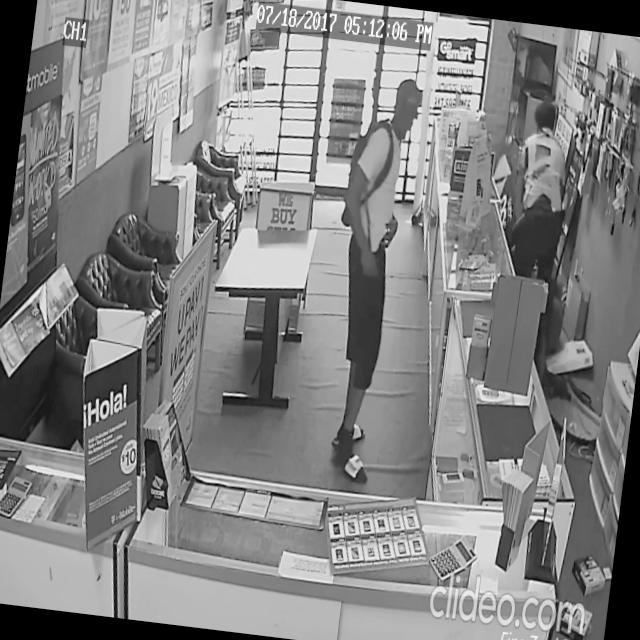gun: (357, 254, 386, 302)
person: (490, 92, 580, 352)
person with a gun: (306, 68, 428, 490)
